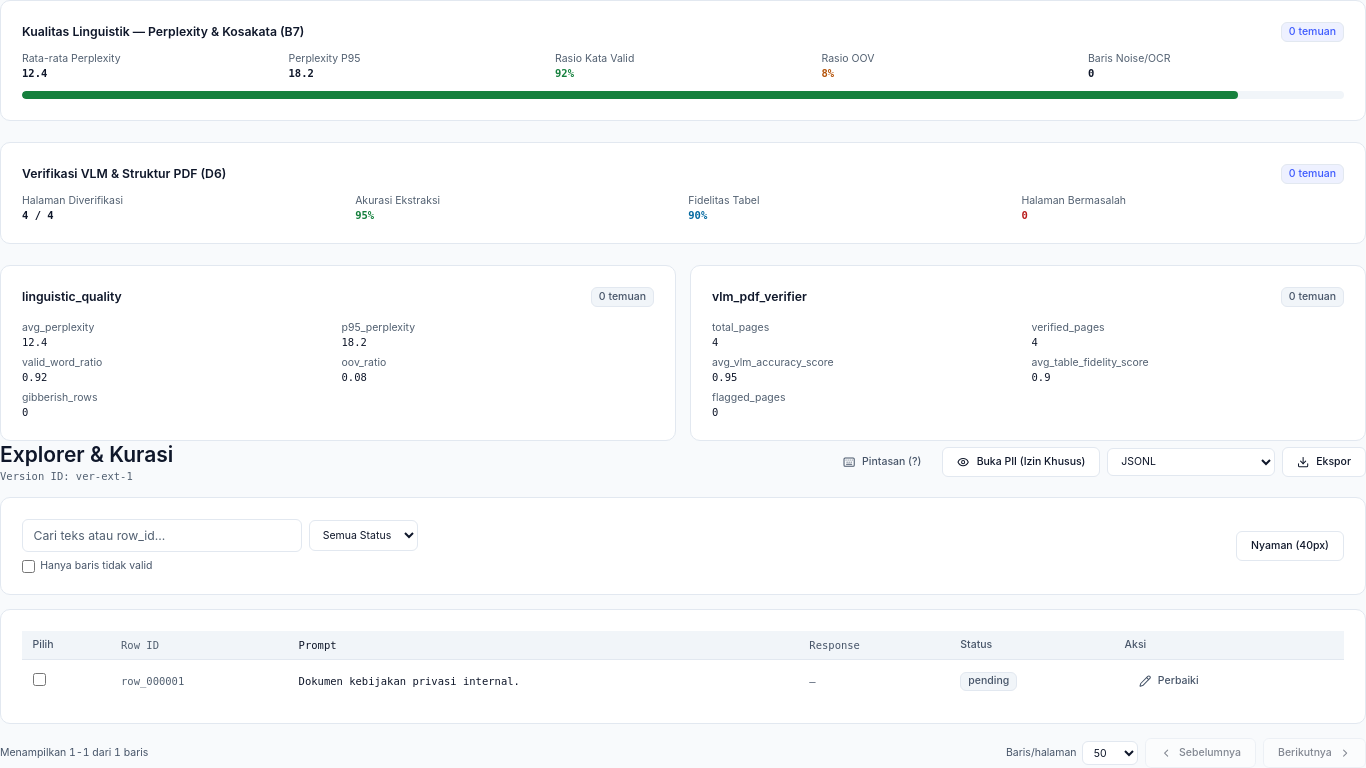
Scenario: NLP Linguistic, VLM PDF, Semantic Chunking & QA/SFT UI › renders Linguistic Quality and VLM PDF cards on RunsPage and new exports/metadata on ExplorerPage
The width and height of the screenshot is (1366, 768).
(page scrolled)
Expected: the heading "Kualitas Linguistik — Perplexity & Kosakata (B7)" is shown, [22,23,304,40]
Expected: the heading "Verifikasi VLM & Struktur PDF (D6)" is shown, [22,165,226,183]
Click the text "row_000001": (153, 681) [110,660,288,702]
(page scrolled)
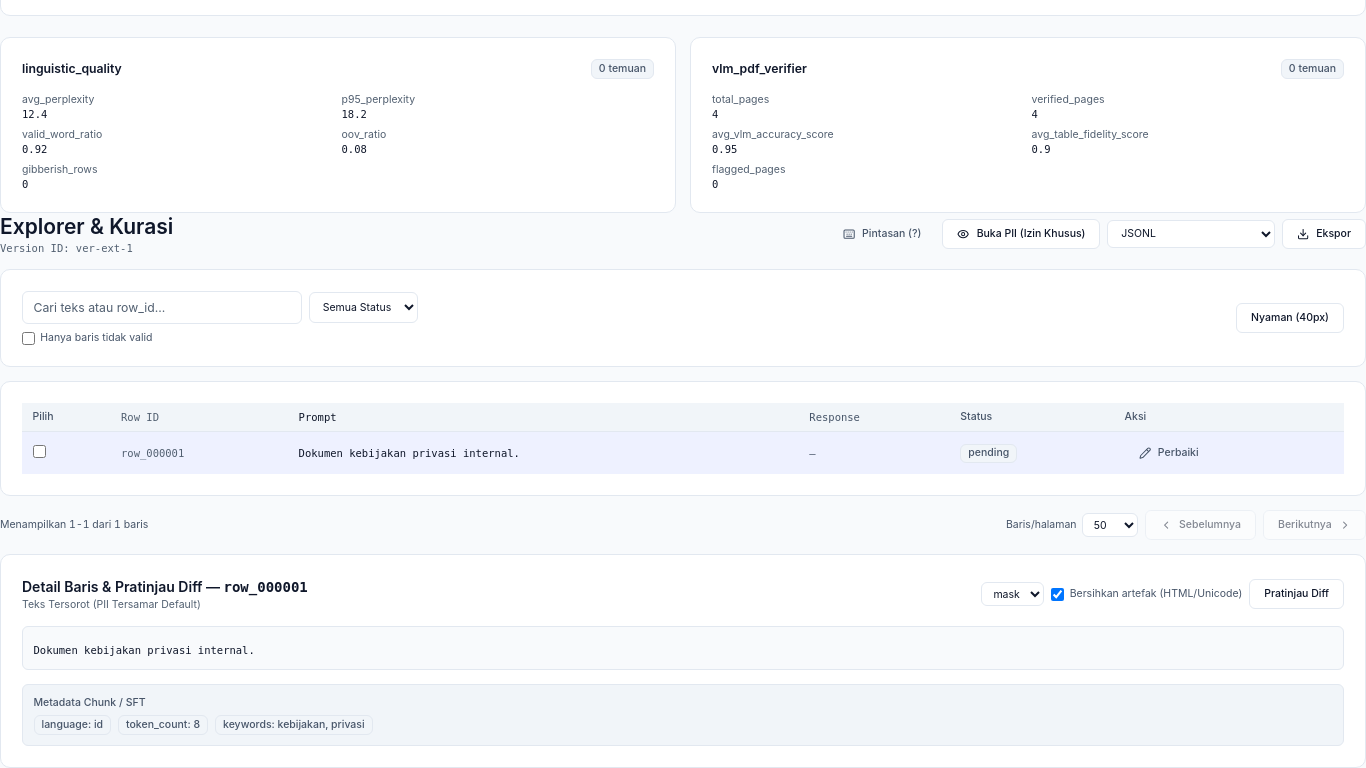
Expected: the text "Metadata Chunk / SFT" is shown, [34,696,146,709]
Expected: the text "keywords: kebijakan, privasi" is shown, [215,715,373,734]
